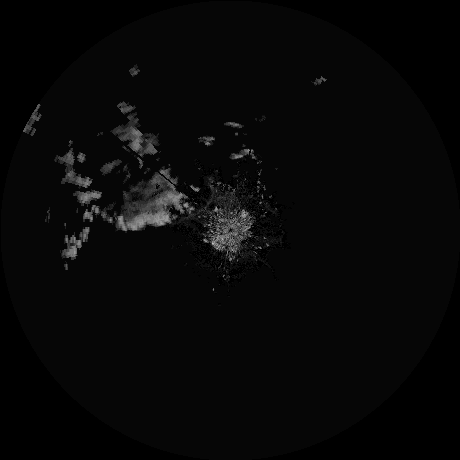frontgust: (178, 185, 212, 221)
